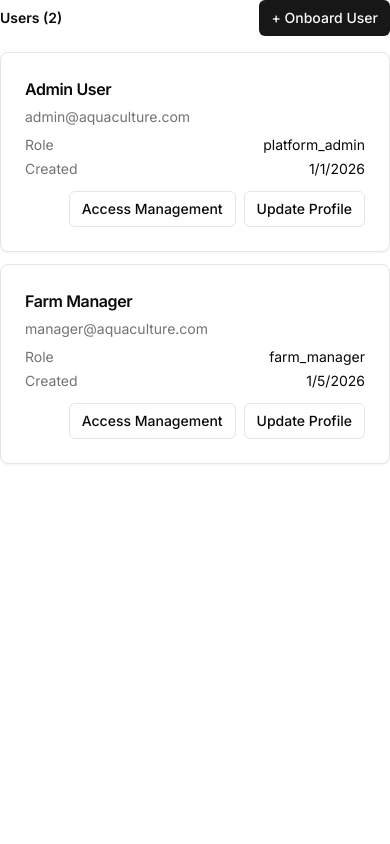
Test: Users — Update Profile dialog routing › clicking Update Profile on a row opens that dialog (separate from Access Management)
The width and height of the screenshot is (390, 844).
Expected: the heading "Users (2)" is shown, [0,8,62,28]
Click the button "Update Profile" below "1/1/2026": coordinates (304, 209) [244,191,365,227]
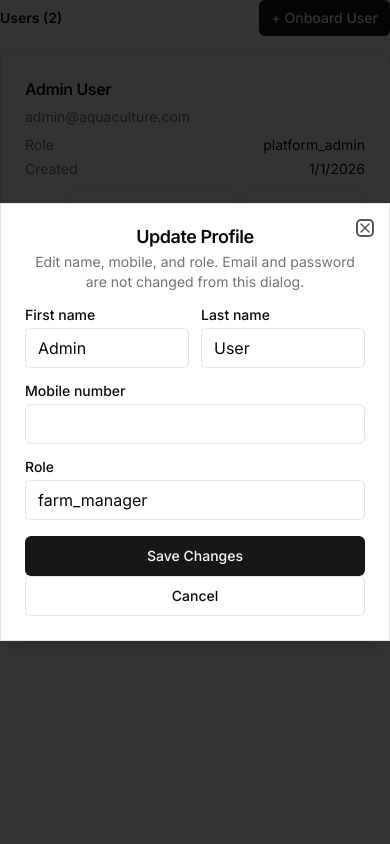
Expected: the heading "Update Profile" is shown, [136,226,254,247]
